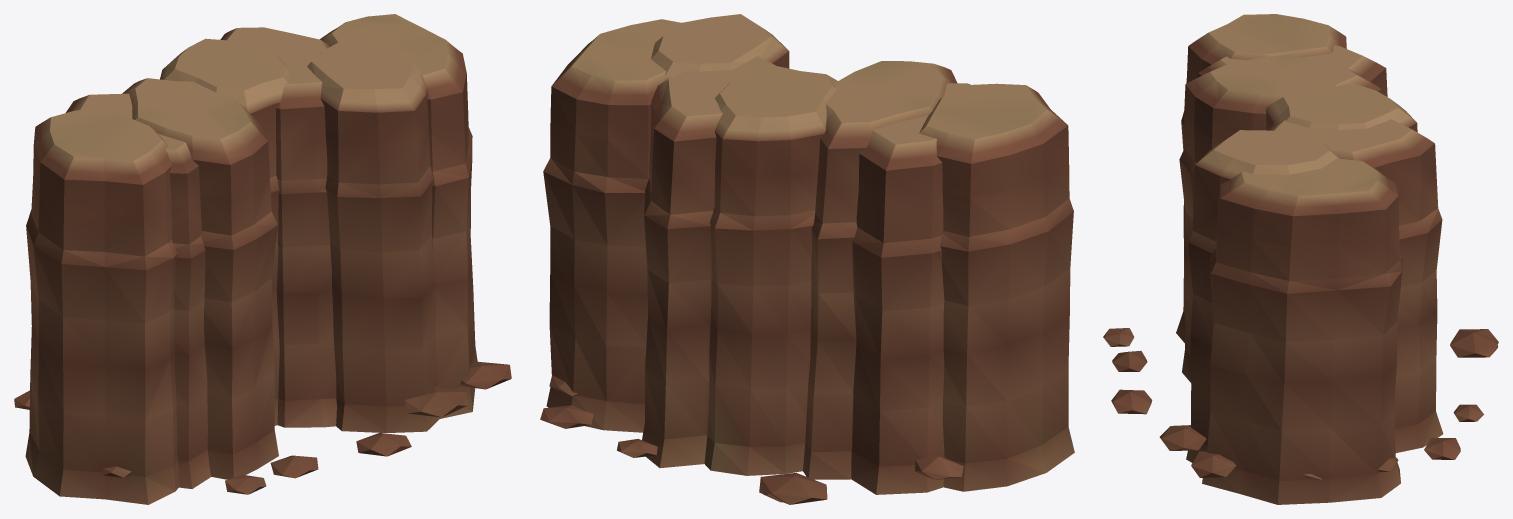
File: mesa_sandstone.glb
The picture shows the model from 3 angles, left to right: view 1: azimuth 30°, elevation 25°; view 2: azimuth 150°, elevation 25°; view 3: azimuth 270°, elevation 25°; orthographic projection. The views are drawn at different scales.
Visible parts, largest first — view 1: mesa_sandstone; view 2: mesa_sandstone; view 3: mesa_sandstone.
Boxes of the visible parts, x1,y1,x2,y2 form: mesa_sandstone: [14, 14, 511, 504]; mesa_sandstone: [540, 14, 1074, 504]; mesa_sandstone: [1103, 14, 1498, 504].
Bounding box in the file's own units: 13.13 × 9.45 × 11.1.
